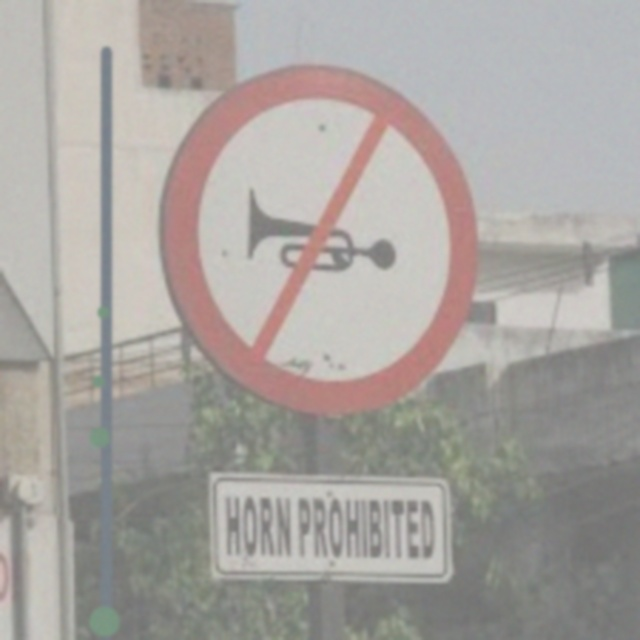Horn_Prohibited: (174, 67, 476, 412)
